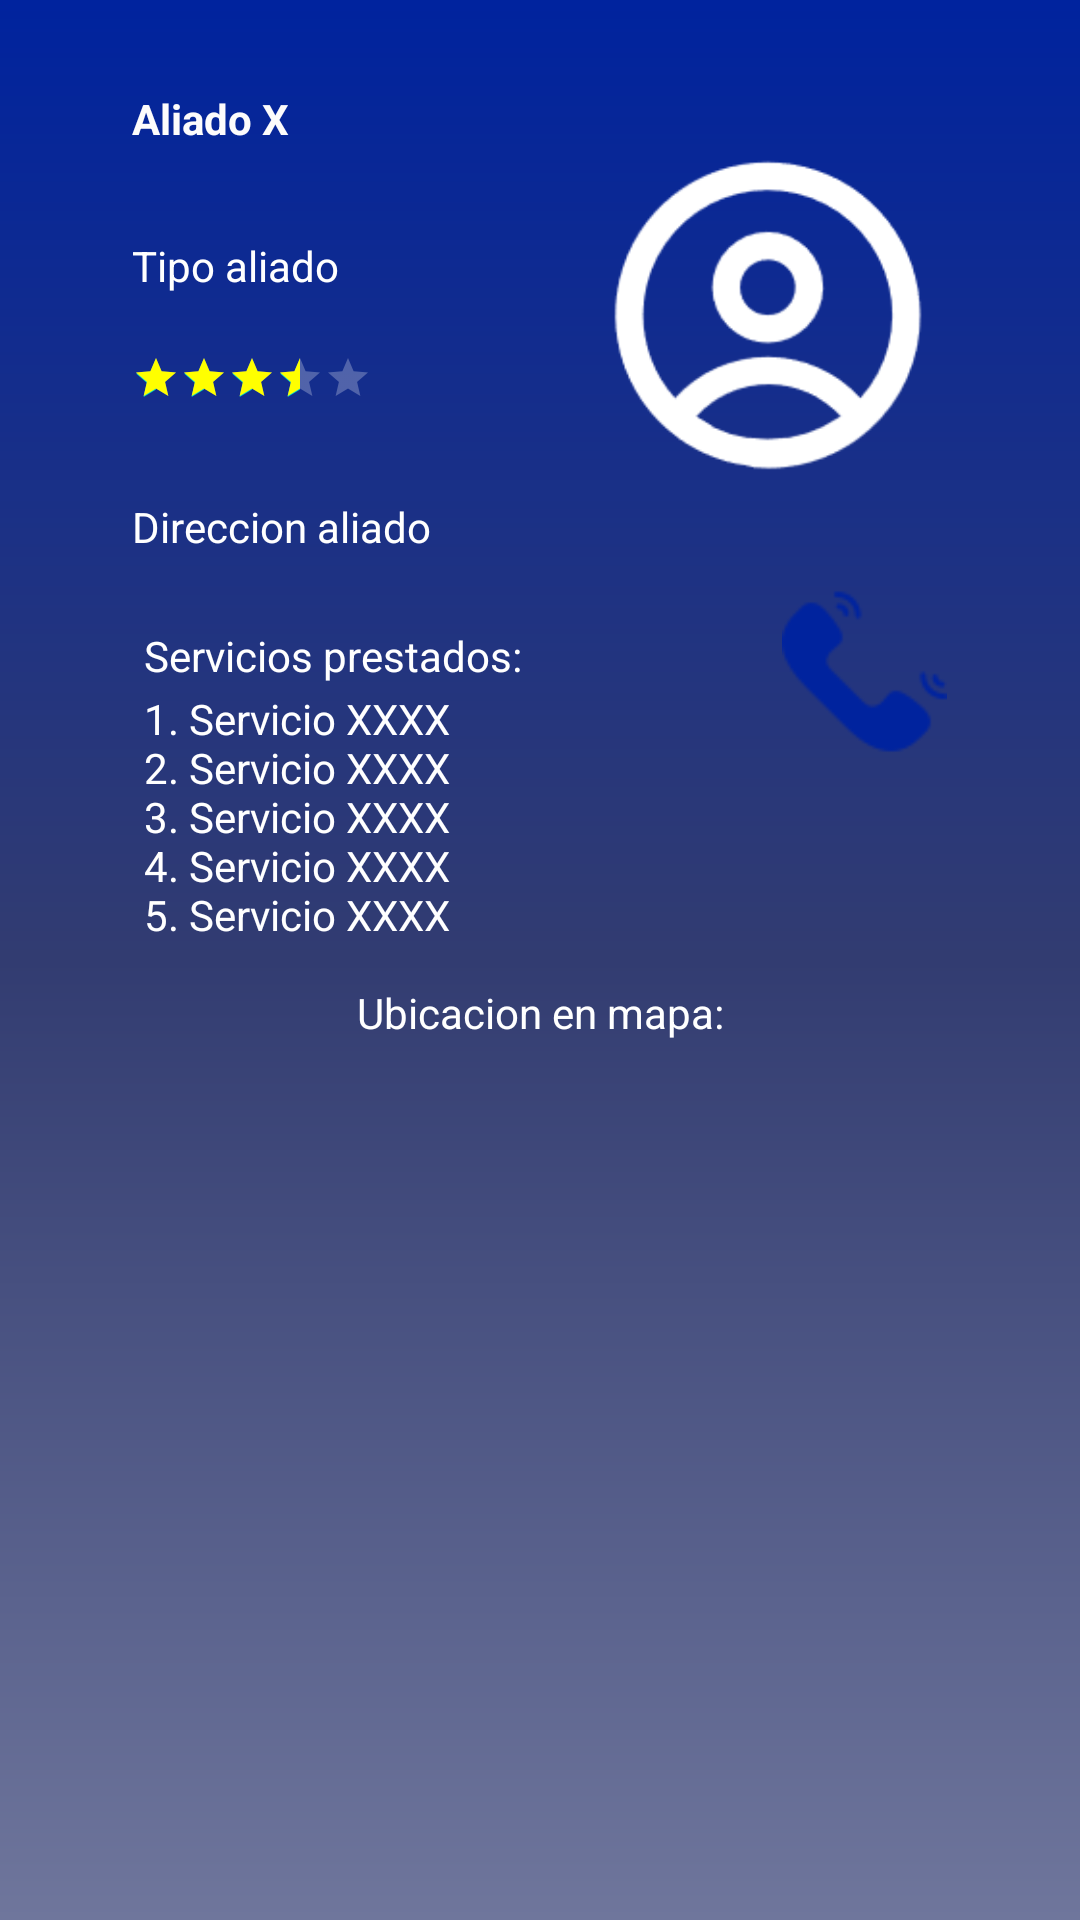

Point at icon controls on the screen. Image size 1080px x 1920px, points as [x,y].
contactar: [863,671]
Imagen aliado: [768,301]
